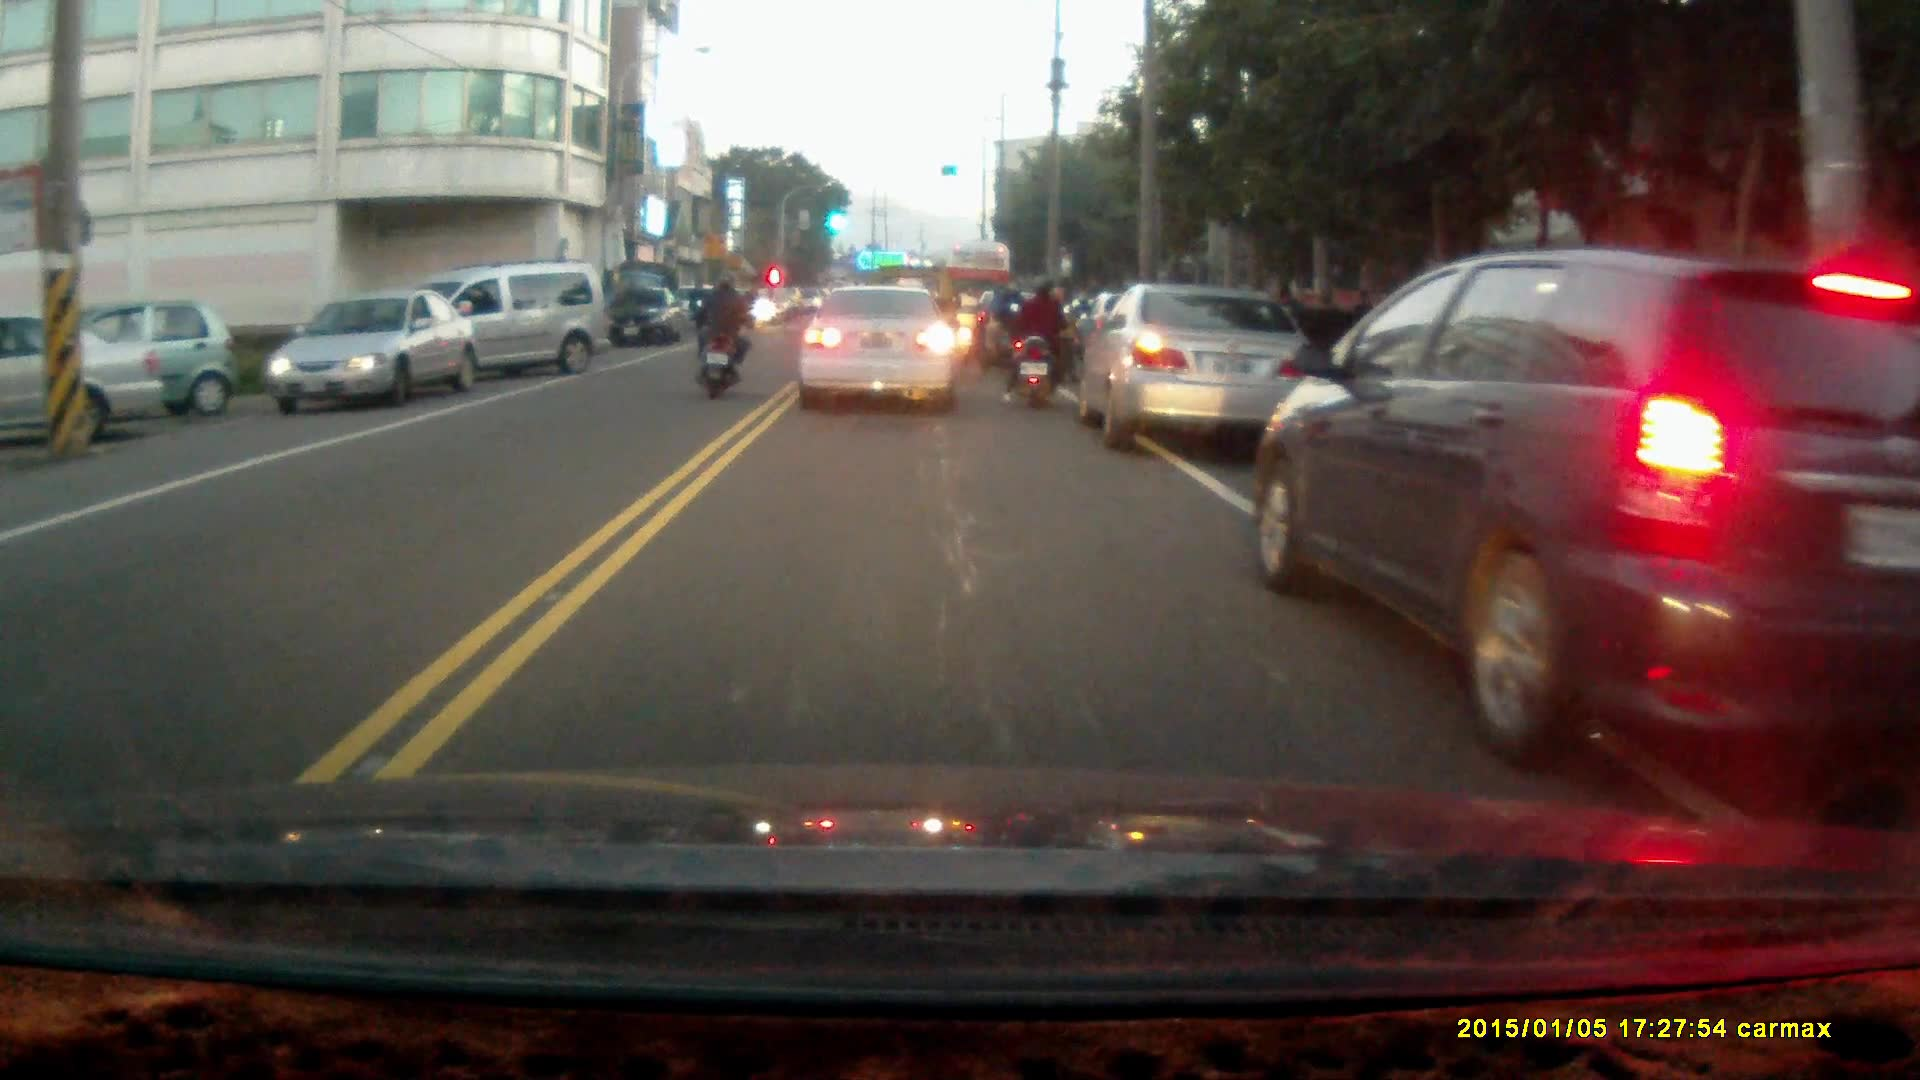rider: (1003, 269, 1073, 409), (691, 272, 751, 395), (974, 274, 1025, 375)
vehicle: (1249, 240, 1914, 781), (1071, 278, 1324, 447), (365, 259, 606, 392), (4, 296, 230, 421), (261, 289, 477, 412), (1, 314, 164, 446), (796, 285, 961, 409), (600, 284, 678, 348)
